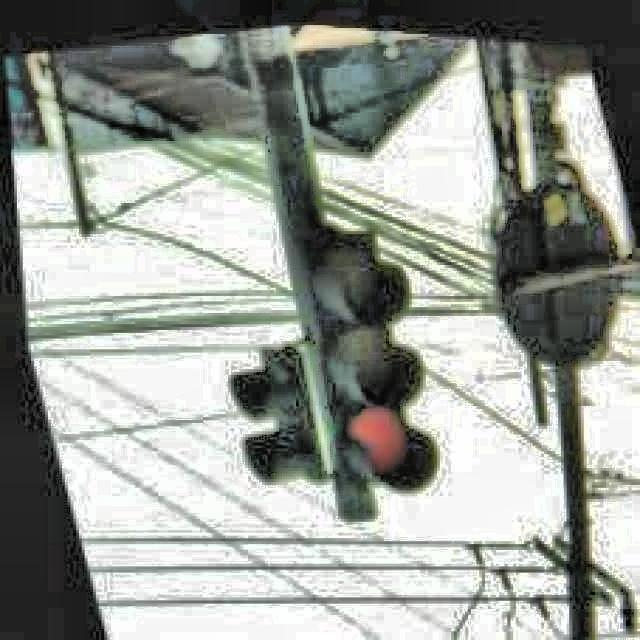red: (303, 227, 441, 500)
